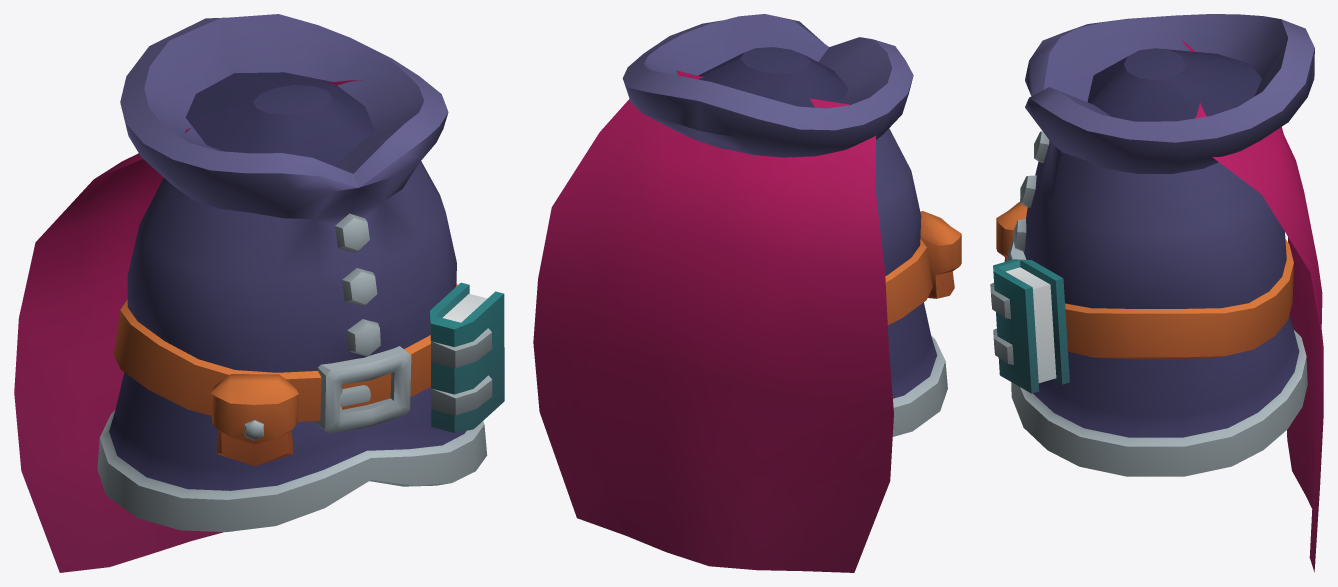
File: mageBody.glb
The picture shows the model from 3 angles, left to right: view 1: azimuth 30°, elevation 25°; view 2: azimuth 150°, elevation 25°; view 3: azimuth 270°, elevation 25°; orthographic projection. The views are drawn at different scales.
Visible parts, largest first — view 1: Mage_Body; view 2: Mage_Body; view 3: Mage_Body.
Part boxes in pixels (x1,y1,x2,y2): Mage_Body: (14, 14, 504, 572); Mage_Body: (533, 14, 961, 572); Mage_Body: (990, 14, 1323, 572).
Size of the model in its own units: 0.3385 by 0.4436 by 0.2742.
1 material, 1 textured.
